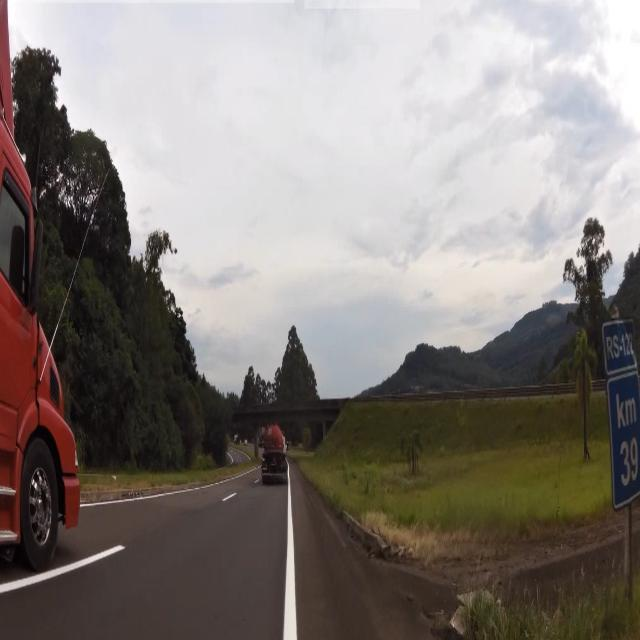RQ: (603, 316, 640, 519)
